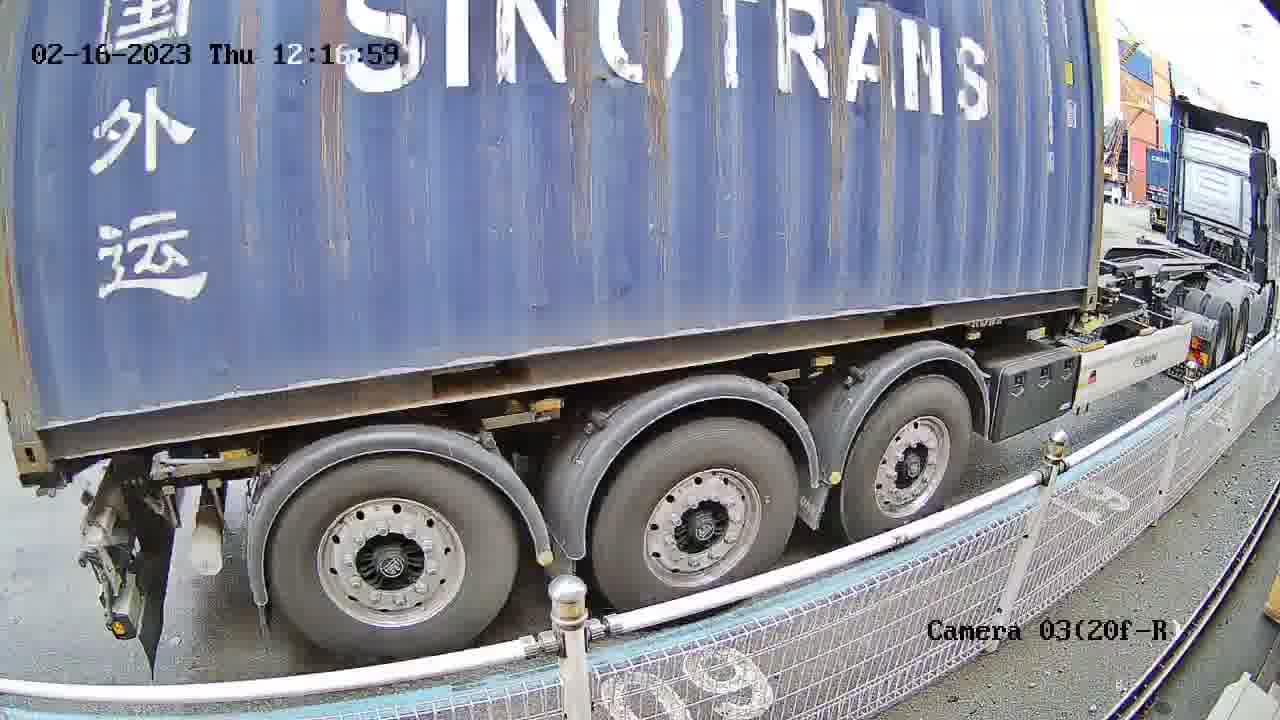Cone: (20, 469, 66, 504), (1073, 309, 1095, 330)
Hole_L: (5, 390, 84, 473)
Hole_R: (1059, 263, 1100, 310)
Tire: (270, 451, 518, 656), (592, 421, 801, 612), (840, 376, 971, 543)
